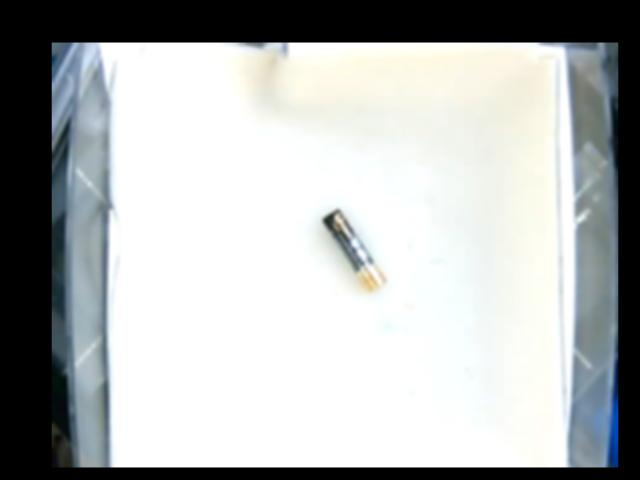Battery: (321, 208, 384, 290)
